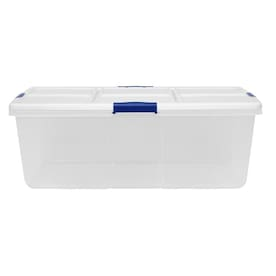PlasticBox: (5, 81, 265, 191)
